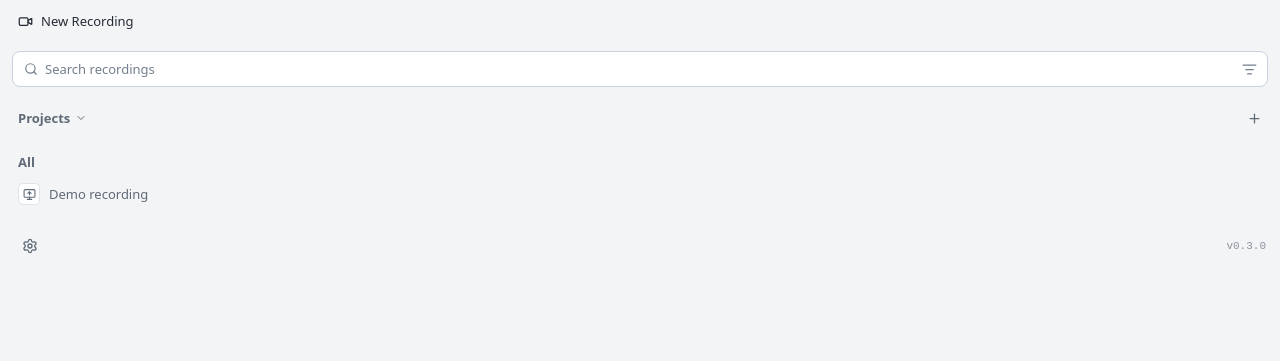
HistorySidebar context menus › starts a rename from the recording menu
Right-click the element showing "Demo recording" at (640, 194), box [8,176,1272,212]
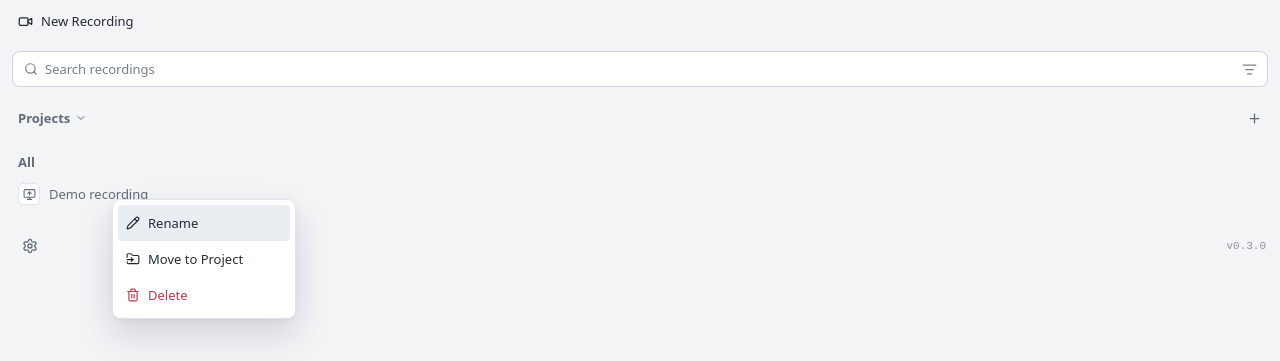
Click the menu item "Rename" at (204, 223), box [118,205,290,241]
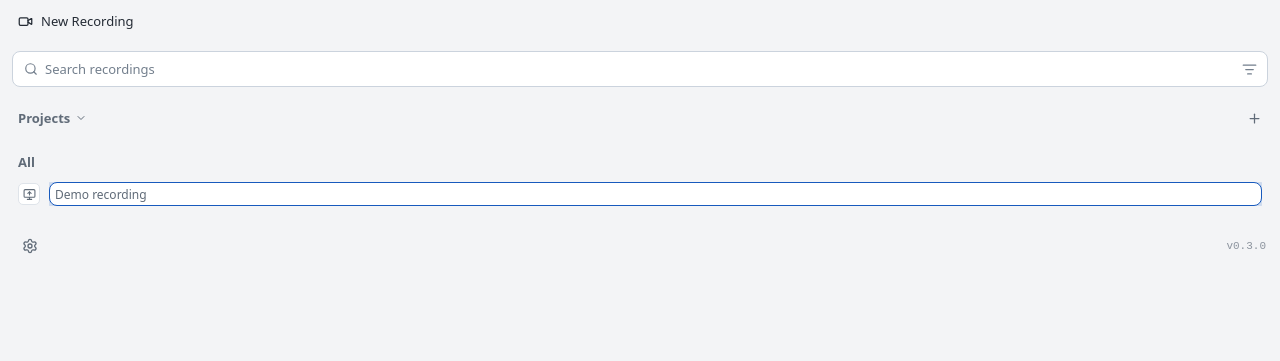
Check: the menu is gone
Check: the field with class "rename-input" is shown, box [49,182,1262,206]
